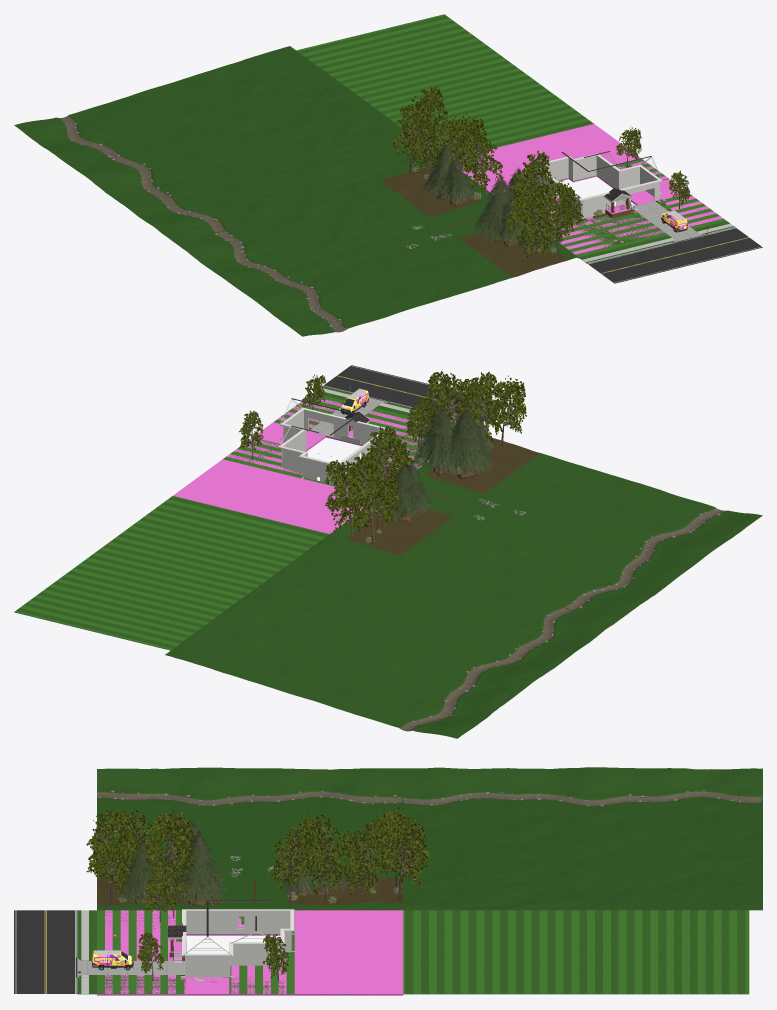
Rendered from house_site.glb.
3 renders of one model, top to bottom at view 1: azimuth 30°, elevation 25°; view 2: azimuth 150°, elevation 25°; view 3: azimuth 270°, elevation 25°, orthographic. The views are drawn at different scales.
Parts seen in each view (by area): view 1: floor_terrain_west_spray, floor_terrain_west, site_mow_stripes_spray, floor_lot_spray, col_site, floor_street, site_mow_stripes, zone_backyard, floor_lot, site_dry_creek_bed_spray, zone_spray_field, site_forest_tree_3 (+17 smaller); view 2: floor_terrain_west_spray, floor_terrain_west, floor_lot_spray, site_mow_stripes_spray, zone_backyard, col_site, floor_street, site_mow_stripes, site_forest_pine_4, site_forest_tree_10, site_dry_creek_bed_spray, site_forest_pine_2 (+12 smaller); view 3: floor_terrain_west_spray, floor_terrain_west, floor_lot_spray, site_mow_stripes_spray, col_site, floor_street, zone_backyard, zone_spray_field, site_mow_stripes, zone_septic_field, site_forest_tree_4, site_dry_creek_bed_spray (+27 smaller).
Part boxes in pixels (x1,y1,x2,y2): floor_terrain_west_spray: (14, 46, 439, 238); floor_terrain_west: (170, 162, 578, 336); site_mow_stripes_spray: (296, 14, 593, 152); floor_lot_spray: (298, 15, 592, 152); col_site: (510, 155, 723, 258); floor_street: (588, 228, 762, 283); site_mow_stripes: (504, 159, 726, 256); zone_backyard: (457, 124, 640, 194); floor_lot: (559, 162, 734, 263); site_dry_creek_bed_spray: (59, 116, 224, 231); zone_spray_field: (478, 136, 589, 185); site_forest_tree_3: (462, 131, 503, 198); floor_terrain_west_spray: (165, 534, 621, 738); floor_terrain_west: (330, 438, 762, 617); floor_lot_spray: (14, 496, 328, 650); site_mow_stripes_spray: (14, 496, 329, 650); zone_backyard: (173, 459, 371, 533); col_site: (226, 396, 436, 492); floor_street: (324, 365, 508, 421); site_mow_stripes: (223, 393, 453, 495); site_forest_pine_4: (438, 408, 493, 478); site_forest_tree_10: (347, 459, 392, 544); site_dry_creek_bed_spray: (401, 607, 574, 730); site_forest_pine_2: (413, 404, 461, 475); floor_terrain_west_spray: (403, 767, 762, 910); floor_terrain_west: (97, 767, 403, 910); floor_lot_spray: (403, 910, 748, 994); site_mow_stripes_spray: (403, 910, 749, 993); col_site: (97, 910, 403, 995); floor_street: (14, 910, 77, 993); zone_backyard: (294, 910, 403, 993); zone_spray_field: (304, 918, 383, 985); site_mow_stripes: (97, 910, 294, 993); zone_septic_field: (304, 915, 383, 947); site_forest_tree_4: (298, 814, 346, 900); site_dry_creek_bed_spray: (403, 791, 761, 806).
Size of the model in its own units: 87.25 by 19.74 by 116.
69 materials, 28 textured.
